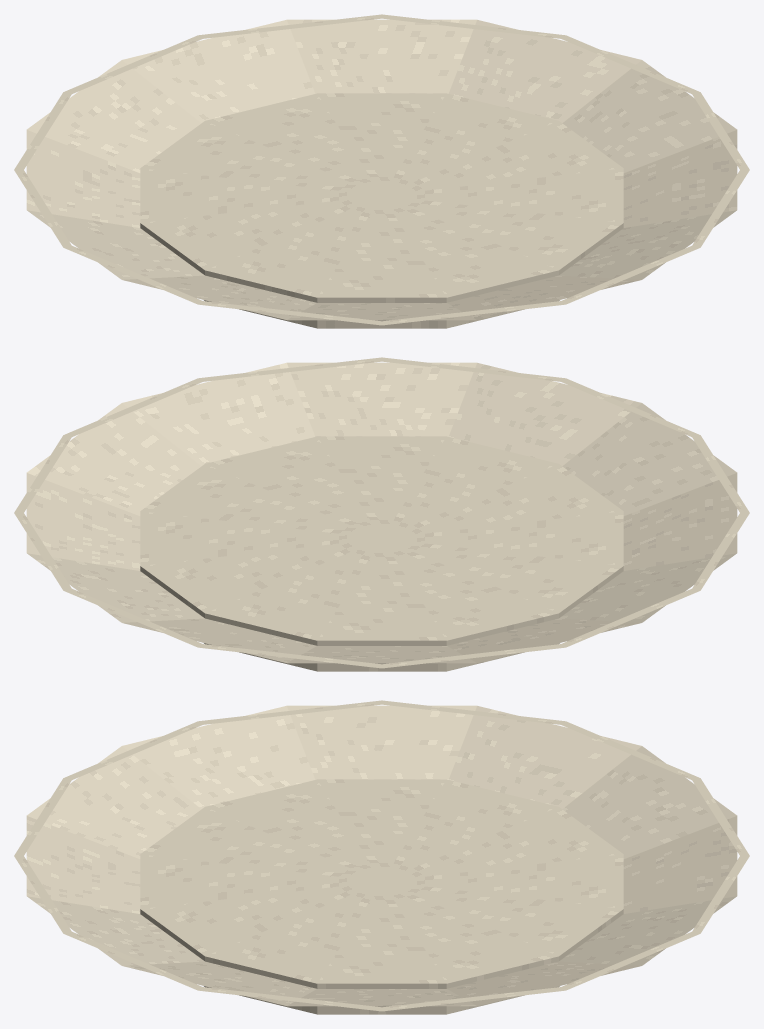
The model's file is ceramic_plate.glb.
3 views of the same model, one above another, from view 1: azimuth 30°, elevation 25°; view 2: azimuth 150°, elevation 25°; view 3: azimuth 270°, elevation 25° (orthographic).
Visible parts, largest first — view 1: block_raised sides, block_thick foot, block_rolled rim 3, block_rolled rim 4, block_rolled rim 9, block_rolled rim 10, block_rolled rim 2, block_rolled rim 5, block_rolled rim 8, block_rolled rim 11, block_rolled rim 0, block_rolled rim 7 (+2 smaller); view 2: block_raised sides, block_thick foot, block_rolled rim 7, block_rolled rim 8, block_rolled rim 1, block_rolled rim 2, block_rolled rim 0, block_rolled rim 3, block_rolled rim 6, block_rolled rim 9, block_rolled rim 4, block_rolled rim 11 (+2 smaller); view 3: block_raised sides, block_thick foot, block_rolled rim 0, block_rolled rim 11, block_rolled rim 5, block_rolled rim 6, block_rolled rim 1, block_rolled rim 4, block_rolled rim 7, block_rolled rim 10, block_rolled rim 3, block_rolled rim 8 (+2 smaller).
Boxes of the visible parts, <box> form: block_raised sides: <box>26,19,737,320</box>; block_thick foot: <box>140,93,623,328</box>; block_rolled rim 3: <box>382,301,565,325</box>; block_rolled rim 4: <box>198,301,381,325</box>; block_rolled rim 9: <box>198,14,381,38</box>; block_rolled rim 10: <box>382,14,565,38</box>; block_rolled rim 2: <box>561,245,699,304</box>; block_rolled rim 5: <box>64,245,202,304</box>; block_rolled rim 8: <box>63,35,202,94</box>; block_rolled rim 11: <box>561,35,700,94</box>; block_rolled rim 0: <box>692,92,749,169</box>; block_rolled rim 7: <box>14,92,71,169</box>; block_raised sides: <box>26,362,737,663</box>; block_thick foot: <box>140,436,623,671</box>; block_rolled rim 7: <box>382,644,565,668</box>; block_rolled rim 8: <box>198,644,381,668</box>; block_rolled rim 1: <box>198,357,381,381</box>; block_rolled rim 2: <box>382,357,565,381</box>; block_rolled rim 0: <box>63,378,202,437</box>; block_rolled rim 3: <box>561,378,700,437</box>; block_rolled rim 6: <box>561,588,699,647</box>; block_rolled rim 9: <box>64,588,202,647</box>; block_rolled rim 4: <box>692,435,749,512</box>; block_rolled rim 11: <box>14,435,71,512</box>; block_raised sides: <box>26,705,737,1006</box>; block_thick foot: <box>140,779,623,1014</box>; block_rolled rim 0: <box>198,987,381,1011</box>; block_rolled rim 11: <box>382,987,565,1011</box>; block_rolled rim 5: <box>198,700,381,724</box>; block_rolled rim 6: <box>382,700,565,724</box>; block_rolled rim 1: <box>64,931,202,990</box>; block_rolled rim 4: <box>63,721,202,780</box>; block_rolled rim 7: <box>561,721,700,780</box>; block_rolled rim 10: <box>561,931,699,990</box>; block_rolled rim 3: <box>14,778,71,855</box>; block_rolled rim 8: <box>692,778,749,855</box>.
Bounding box in the file's own units: 0.26 × 0.022 × 0.26.
Materials: 2 (2 with a texture image).
